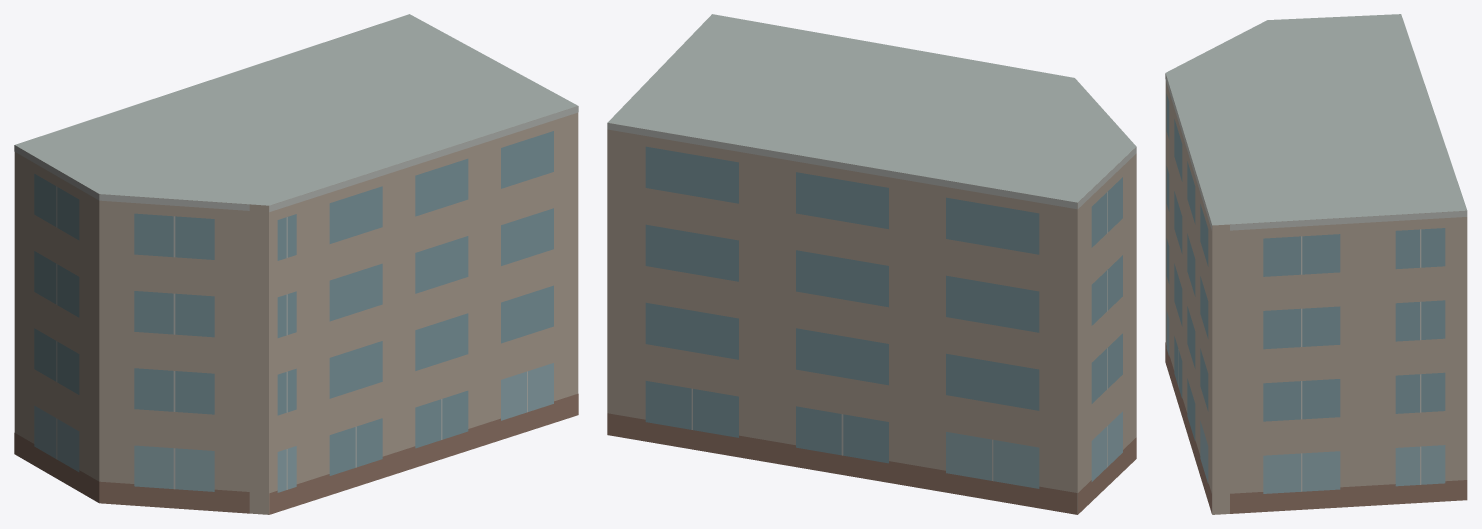
File: survey-upis-33028632.glb
The picture shows the model from 3 angles, left to right: view 1: azimuth 30°, elevation 25°; view 2: azimuth 150°, elevation 25°; view 3: azimuth 270°, elevation 25°; orthographic projection. The views are drawn at different scales.
Parts seen in each view (by area): view 1: survey-upis-33028632.tmp; view 2: survey-upis-33028632.tmp; view 3: survey-upis-33028632.tmp.
Boxes of the visible parts, left/top/right/bottom form: survey-upis-33028632.tmp: left=14, top=14, right=578, bottom=514; survey-upis-33028632.tmp: left=607, top=14, right=1136, bottom=514; survey-upis-33028632.tmp: left=1165, top=14, right=1467, bottom=514.
Size of the model in its own units: 17.87 by 11.4 by 10.79.
